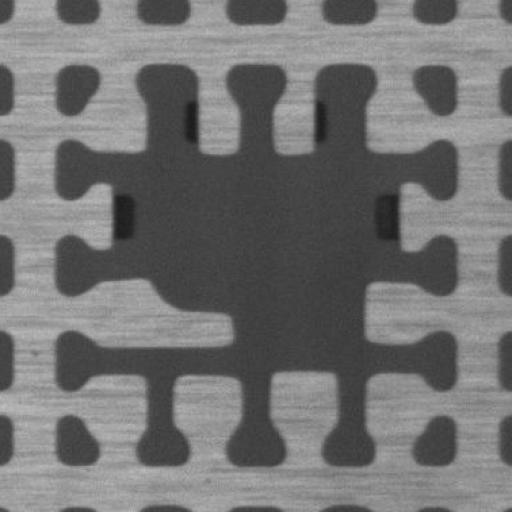NO_DIE: (57, 68, 464, 472)
